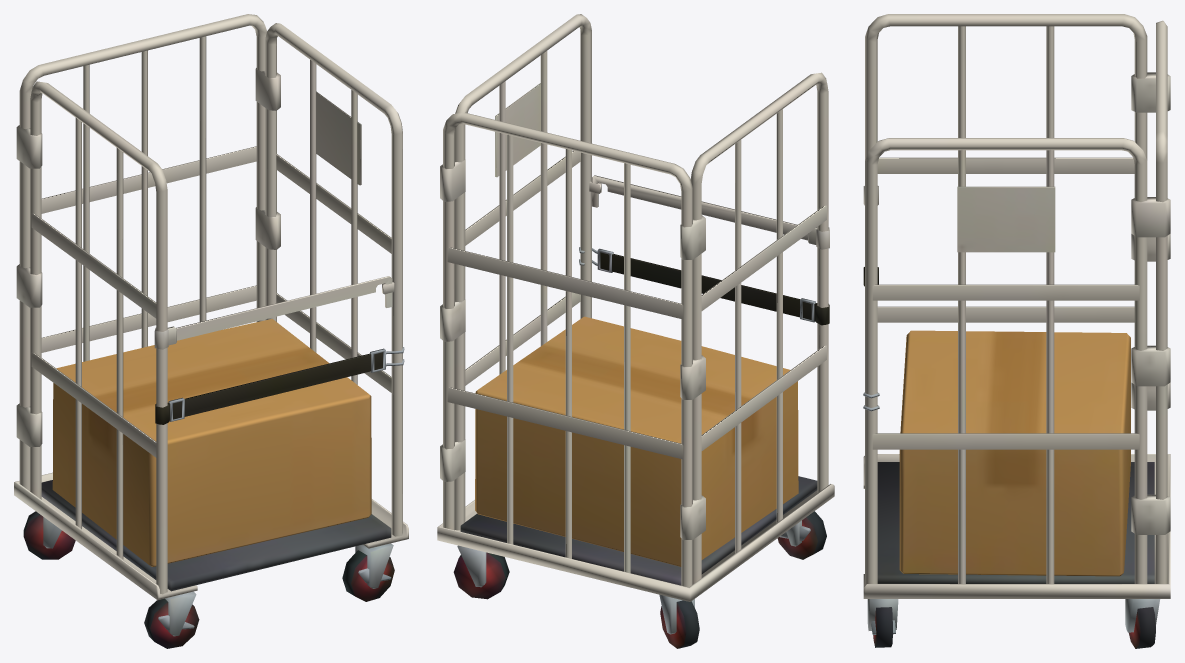
The picture shows the model from 3 angles, left to right: view 1: azimuth 30°, elevation 25°; view 2: azimuth 150°, elevation 25°; view 3: azimuth 270°, elevation 25°; orthographic projection. The views are drawn at different scales.
Bounding box in the file's own units: 10 × 18.42 × 9.89.
1 material, 1 textured.
